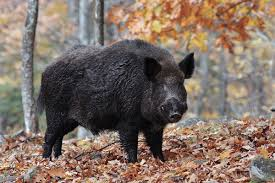boar: (37, 39, 196, 165)
